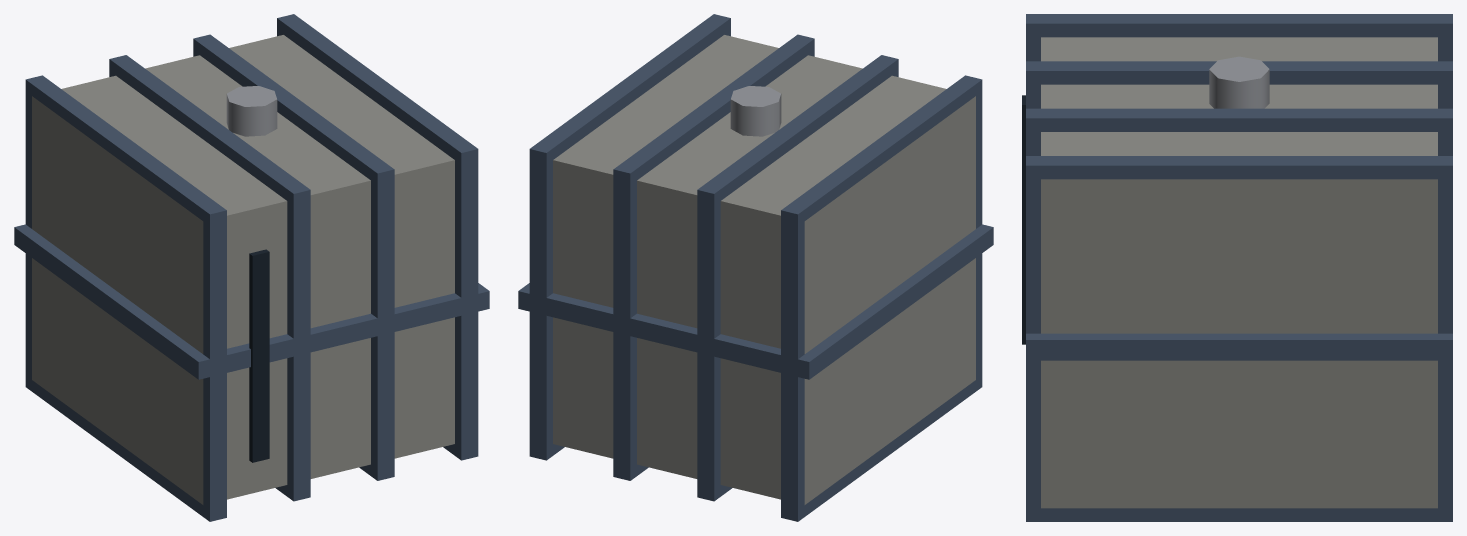
Rendered from ko300_fluid.obj.
3 views of the same model, side by side, from view 1: azimuth 30°, elevation 25°; view 2: azimuth 150°, elevation 25°; view 3: azimuth 270°, elevation 25° (orthographic). The views are drawn at different scales.
Parts seen in each view (by area): view 1: ko300_fluid; view 2: ko300_fluid; view 3: ko300_fluid.
Boxes of the visible parts, <box> form: ko300_fluid: <box>14,14,489,521</box>; ko300_fluid: <box>518,14,993,521</box>; ko300_fluid: <box>1022,14,1452,521</box>.
Bounding box in the file's own units: 1.03 × 1.1 × 1.14.
